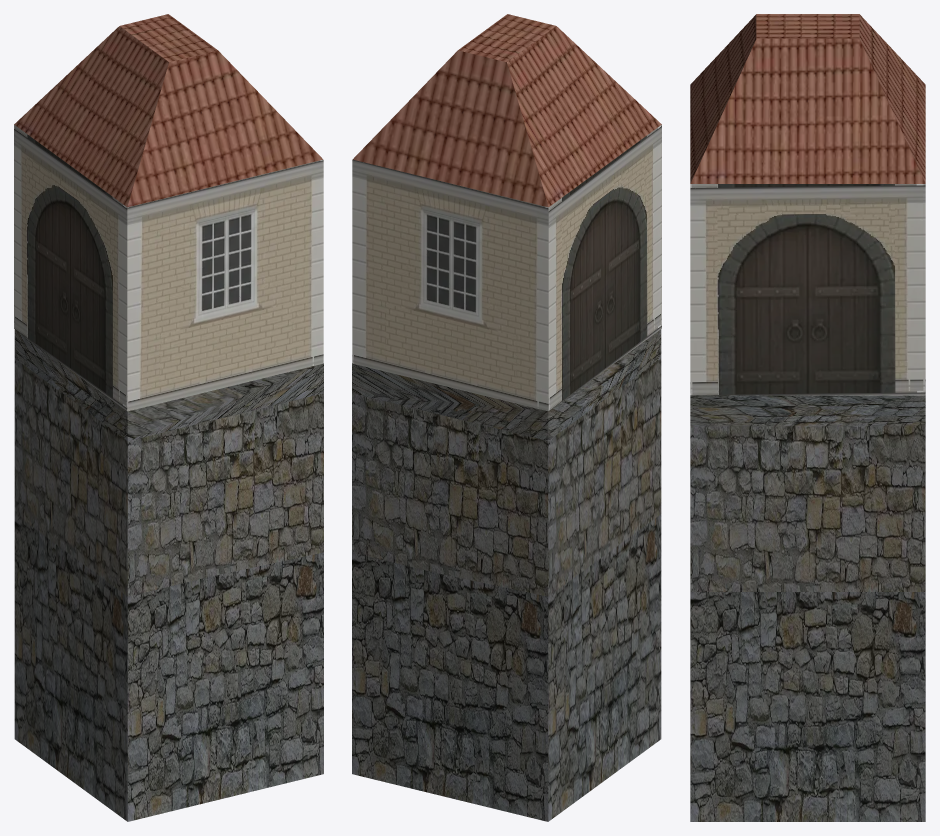
The model's file is miner.glb.
3 renders of one model, left to right at view 1: azimuth 30°, elevation 25°; view 2: azimuth 150°, elevation 25°; view 3: azimuth 270°, elevation 25°, orthographic. The views are drawn at different scales.
Parts seen in each view (by area): view 1: Cube.001, Cube; view 2: Cube.001, Cube; view 3: Cube.001, Cube.
Part boxes in pixels (x1,y1,x2,y2): Cube.001: [14, 329, 323, 821]; Cube: [14, 14, 323, 411]; Cube.001: [352, 329, 661, 821]; Cube: [352, 14, 661, 411]; Cube.001: [690, 395, 925, 821]; Cube: [690, 14, 925, 395].
Bounding box in the file's own units: 1 × 3.5 × 1.
4 materials, 4 textured.
